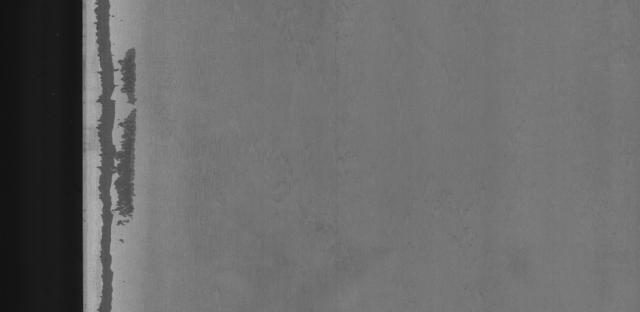oil_spot: (90, 2, 154, 312)
